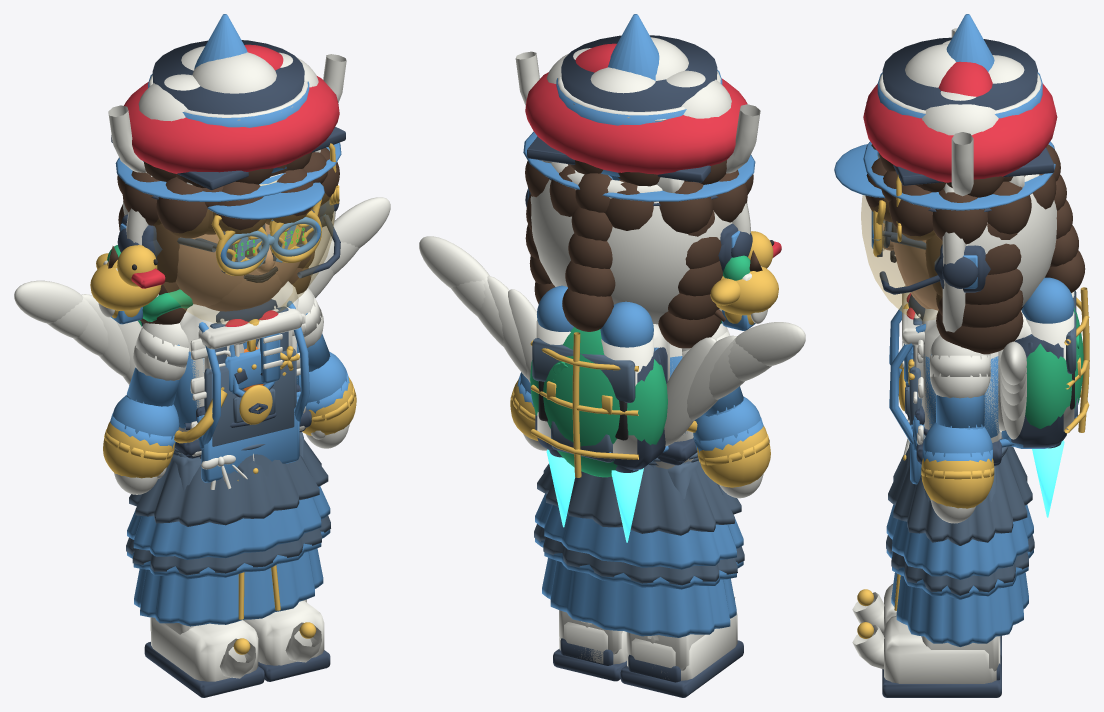
File: wardrobe.glb
3 renders of one model, left to right at view 1: azimuth 30°, elevation 25°; view 2: azimuth 150°, elevation 25°; view 3: azimuth 270°, elevation 25°, orthographic. The views are drawn at different scales.
Parts seen in each view (by area): view 1: Golden visor, Mushroom cap, Tulle upper tier, Dress skirt.004, Dress skirt.002, Top hat, Moon boot, Overall bib, Head.002, Skirt fabric.003, Moon boot.001, Jacket apron (+56 smaller); view 2: Mushroom cap, Helmet shell, Dress skirt.004, Turtle shell, Tulle upper tier, Dress skirt.002, Top hat, Skirt fabric.003, Moon boot, Wing feather, Wizard brim, Wing feather.004 (+60 smaller); view 3: Mushroom cap, Tulle upper tier, Dress skirt.004, Golden visor, Dress skirt.002, Moon boot.001, Top hat, Turtle shell, Helmet shell, Wizard brim, Skirt fabric.003, Toque puff.002 (+59 smaller).
Boxes of the visible parts, left/top/right/bottom form: Golden visor: left=153, top=181, right=333, bottom=324; Mushroom cap: left=124, top=76, right=339, bottom=173; Tulle upper tier: left=129, top=439, right=328, bottom=526; Dress skirt.004: left=134, top=548, right=323, bottom=626; Dress skirt.002: left=127, top=486, right=330, bottom=559; Top hat: left=152, top=40, right=304, bottom=114; Moon boot: left=151, top=617, right=258, bottom=681; Overall bib: left=204, top=348, right=296, bottom=446; Head.002: left=175, top=228, right=300, bottom=306; Skirt fabric.003: left=126, top=515, right=330, bottom=575; Moon boot.001: left=243, top=601, right=324, bottom=665; Jacket apron: left=201, top=403, right=299, bottom=482; Mushroom cap: left=525, top=72, right=747, bottom=174; Helmet shell: left=530, top=179, right=732, bottom=324; Dress skirt.004: left=542, top=557, right=736, bottom=637; Turtle shell: left=530, top=327, right=667, bottom=477; Tulle upper tier: left=537, top=460, right=741, bottom=535; Dress skirt.002: left=535, top=493, right=743, bottom=569; Top hat: left=561, top=35, right=717, bottom=111; Skirt fabric.003: left=534, top=524, right=744, bottom=585; Moon boot: left=627, top=612, right=737, bottom=680; Wing feather: left=664, top=337, right=716, bottom=446; Wizard brim: left=523, top=131, right=755, bottom=201; Wing feather.004: left=735, top=322, right=805, bottom=366; Mushroom cap: left=863, top=83, right=1057, bottom=182; Tulle upper tier: left=888, top=446, right=1032, bottom=545; Dress skirt.004: left=891, top=572, right=1028, bottom=646; Golden visor: left=861, top=157, right=941, bottom=320; Dress skirt.002: left=886, top=504, right=1033, bottom=579; Moon boot.001: left=884, top=615, right=1000, bottom=683; Top hat: left=882, top=37, right=1037, bottom=110; Turtle shell: left=1025, top=308, right=1083, bottom=428; Helmet shell: left=966, top=193, right=1056, bottom=306; Wizard brim: left=863, top=141, right=1055, bottom=210; Skirt fabric.003: left=886, top=535, right=1034, bottom=595; Toque puff.002: left=922, top=91, right=998, bottom=135.
Bounding box in the file's own units: 1.82 × 2.97 × 1.05.
